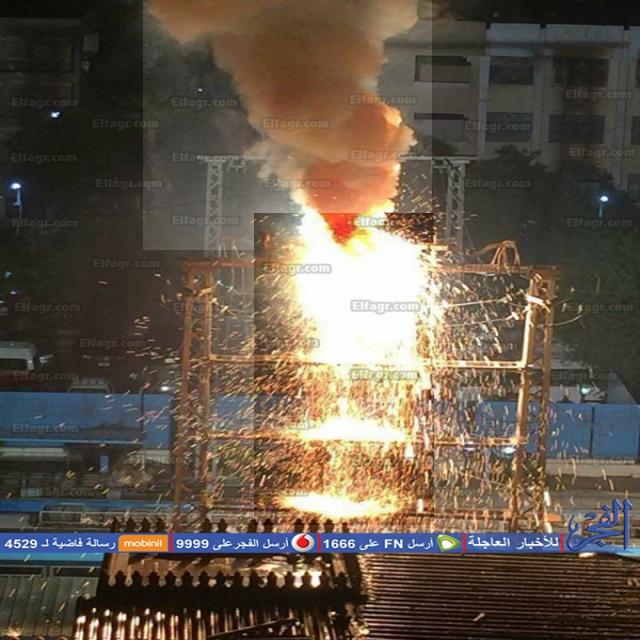Fire: (255, 214, 434, 526)
Smoke: (143, 0, 432, 250)
